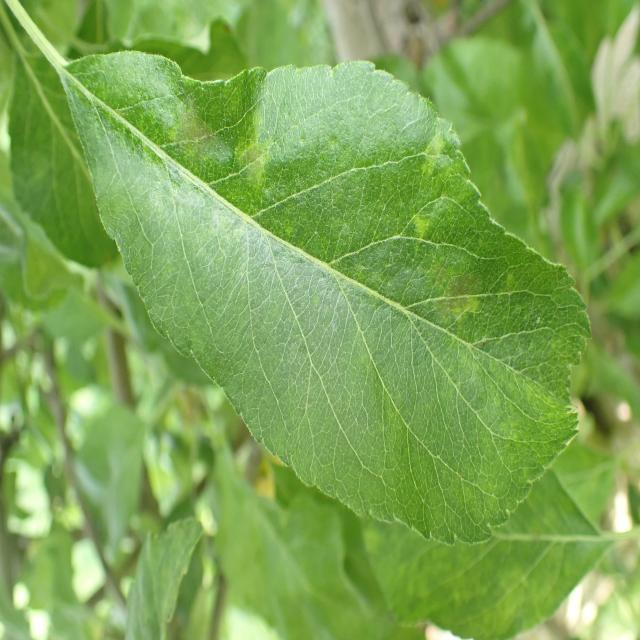scab: (160, 46, 543, 448)
